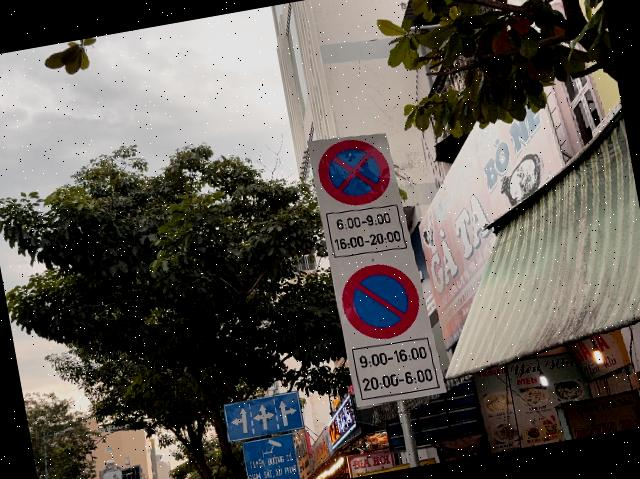cam-do-xe: (336, 257, 425, 346)
cam-dung-va-do-xe: (312, 132, 396, 212)
